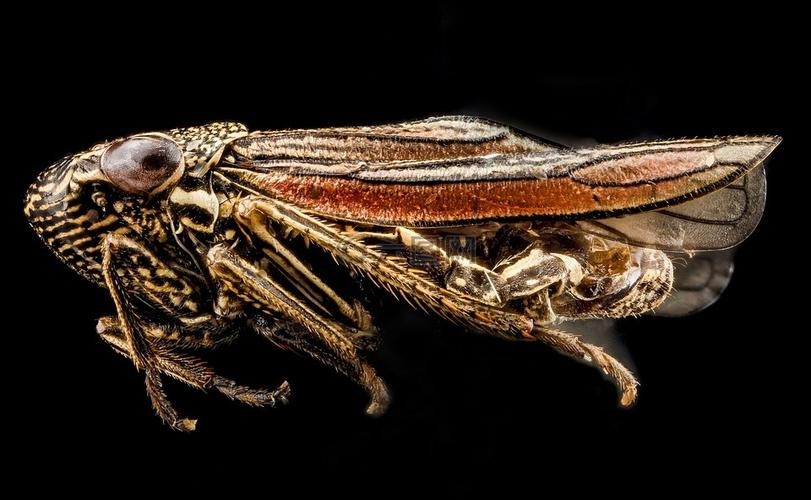Cicadellidae: (19, 116, 783, 431)
